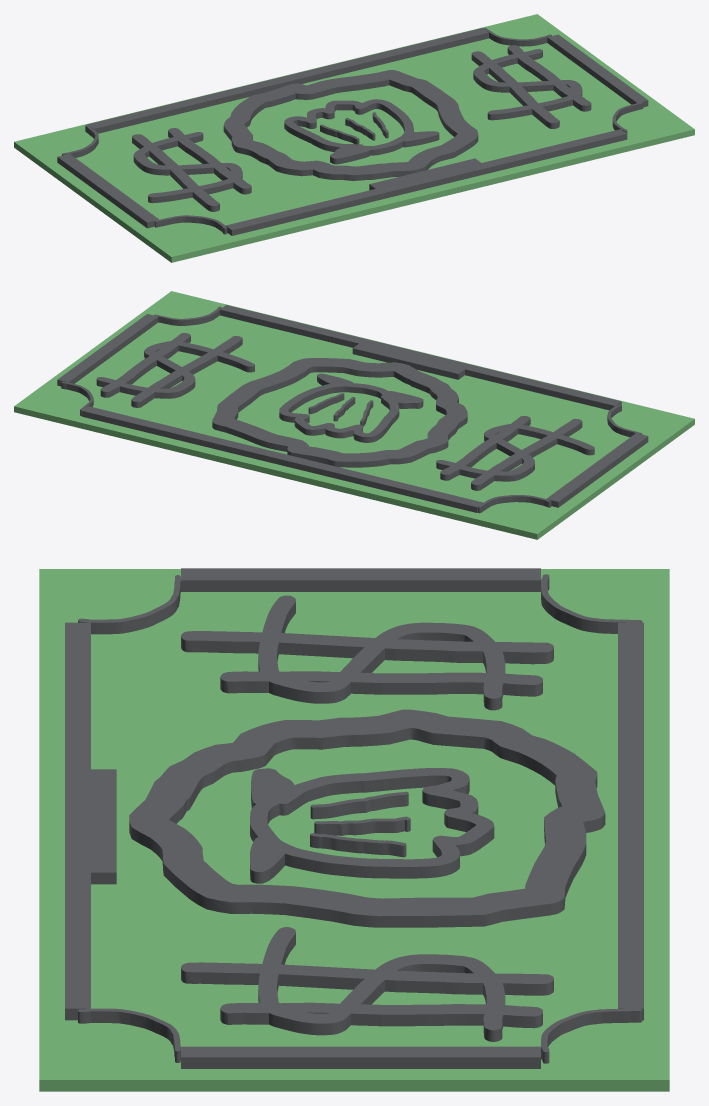
Rendered from the_krusty_dollar.glb.
3 renders of one model, top to bottom at view 1: azimuth 30°, elevation 25°; view 2: azimuth 150°, elevation 25°; view 3: azimuth 270°, elevation 25°, orthographic. The views are drawn at different scales.
Parts seen in each view (by area): view 1: Mesh_Mesh_head_geo.001_lambert2SG.001_0; view 2: Mesh_Mesh_head_geo.001_lambert2SG.001_0; view 3: Mesh_Mesh_head_geo.001_lambert2SG.001_0.
Boxes of the visible parts, bbox=[...] form: Mesh_Mesh_head_geo.001_lambert2SG.001_0: bbox=[14, 14, 694, 262]; Mesh_Mesh_head_geo.001_lambert2SG.001_0: bbox=[14, 291, 694, 539]; Mesh_Mesh_head_geo.001_lambert2SG.001_0: bbox=[39, 568, 669, 1091].
Bounding box in the file's own units: 94 × 2 × 49.
